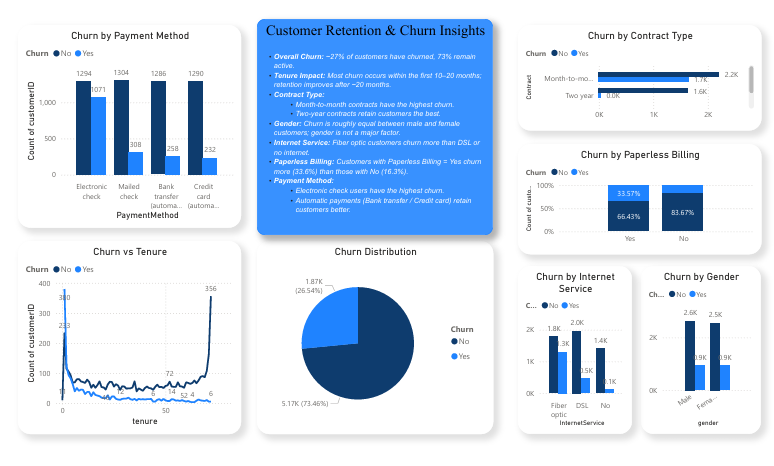

Layout of this report page (visuals, bound fields, positions):
{"tool":"powerbi","page":{"name":"Page 1","canvas":[1280,720],"ordinal":0},"visuals":[{"type":"pieChart","title":"Churn Distribution","fields":{"Category":["WA_Fn-UseC_-Telco-Customer-Churn.Churn"],"Y":["CountNonNull(WA_Fn-UseC_-Telco-Customer-Churn.Churn)"]},"box":[412,382,394,322],"z":0},{"type":"clusteredBarChart","title":"Churn by Contract Type","fields":{"Category":["WA_Fn-UseC_-Telco-Customer-Churn.Contract"],"Y":["CountNonNull(WA_Fn-UseC_-Telco-Customer-Churn.Churn)"],"Series":["WA_Fn-UseC_-Telco-Customer-Churn.Churn"]},"box":[846,22,406,176],"z":1000},{"type":"lineChart","title":"Churn vs Tenure","fields":{"Category":["WA_Fn-UseC_-Telco-Customer-Churn.tenure"],"Y":["CountNonNull(WA_Fn-UseC_-Telco-Customer-Churn.customerID)"],"Series":["WA_Fn-UseC_-Telco-Customer-Churn.Churn"]},"box":[14,382,372,322],"z":2000},{"type":"clusteredColumnChart","title":"Churn by Gender","fields":{"Category":["WA_Fn-UseC_-Telco-Customer-Churn.gender"],"Y":["CountNonNull(WA_Fn-UseC_-Telco-Customer-Churn.customerID)"],"Series":["WA_Fn-UseC_-Telco-Customer-Churn.Churn"]},"box":[1052,424,200,280],"z":3000},{"type":"clusteredColumnChart","title":"Churn by Internet Service","fields":{"Category":["WA_Fn-UseC_-Telco-Customer-Churn.InternetService"],"Y":["CountNonNull(WA_Fn-UseC_-Telco-Customer-Churn.customerID)"],"Series":["WA_Fn-UseC_-Telco-Customer-Churn.Churn"]},"box":[846.7,423.3,190,280],"z":4000},{"type":"hundredPercentStackedColumnChart","title":"Churn by Paperless Billing","fields":{"Category":["WA_Fn-UseC_-Telco-Customer-Churn.PaperlessBilling"],"Y":["CountNonNull(WA_Fn-UseC_-Telco-Customer-Churn.customerID)"],"Series":["WA_Fn-UseC_-Telco-Customer-Churn.Churn"]},"box":[846,220,406,184],"z":5000},{"type":"clusteredColumnChart","title":"Churn by Payment Method","fields":{"Y":["CountNonNull(WA_Fn-UseC_-Telco-Customer-Churn.customerID)"],"Category":["WA_Fn-UseC_-Telco-Customer-Churn.PaymentMethod"],"Series":["WA_Fn-UseC_-Telco-Customer-Churn.Churn"]},"box":[14,22,372,338],"z":6000},{"type":"textbox","title":"Customer Retention & Churn Insights","box":[411.7,11.7,393.3,360],"z":8000}]}

Visuals, with their boxes on the page's 1280x720 design canvas (x1, y1, x2, y2). These are canvas units, not pixel positions in the 774x466 screenshot, which may show the page scaled, cropped or inside an application window:
"Churn Distribution" pieChart: {"x1": 412, "y1": 382, "x2": 806, "y2": 704}
"Churn by Contract Type" clusteredBarChart: {"x1": 846, "y1": 22, "x2": 1252, "y2": 198}
"Churn vs Tenure" lineChart: {"x1": 14, "y1": 382, "x2": 386, "y2": 704}
"Churn by Gender" clusteredColumnChart: {"x1": 1052, "y1": 424, "x2": 1252, "y2": 704}
"Churn by Internet Service" clusteredColumnChart: {"x1": 847, "y1": 423, "x2": 1037, "y2": 703}
"Churn by Paperless Billing" hundredPercentStackedColumnChart: {"x1": 846, "y1": 220, "x2": 1252, "y2": 404}
"Churn by Payment Method" clusteredColumnChart: {"x1": 14, "y1": 22, "x2": 386, "y2": 360}
"Customer Retention & Churn Insights" textbox: {"x1": 412, "y1": 12, "x2": 805, "y2": 372}
